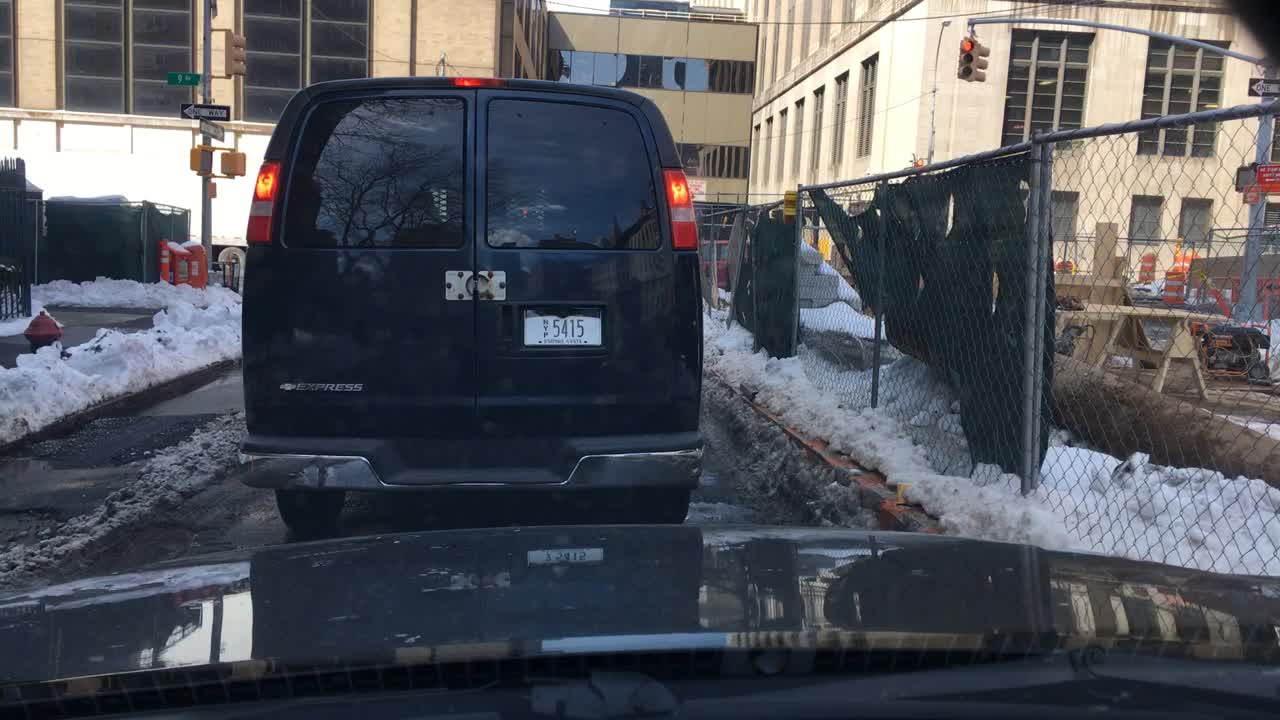car: (235, 75, 706, 523), (698, 239, 731, 285)
traffic light: (956, 35, 974, 83), (218, 148, 247, 175), (975, 42, 989, 84), (189, 145, 202, 170)
traffic sign: (178, 104, 231, 121), (1259, 161, 1277, 192), (167, 70, 201, 86), (1247, 78, 1278, 94), (1244, 183, 1255, 207)
